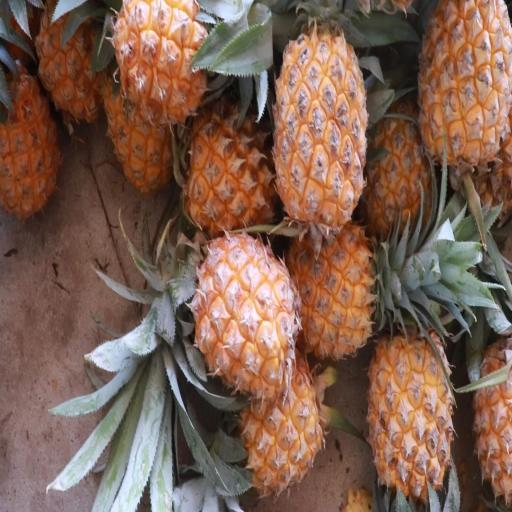Pineapple - v8 v1: (269, 0, 369, 243), (190, 234, 303, 416), (365, 293, 457, 503), (409, 1, 512, 182), (230, 327, 328, 500), (282, 212, 383, 360), (179, 90, 275, 236), (104, 2, 214, 126), (0, 45, 62, 223), (33, 2, 110, 120), (467, 300, 512, 501)
